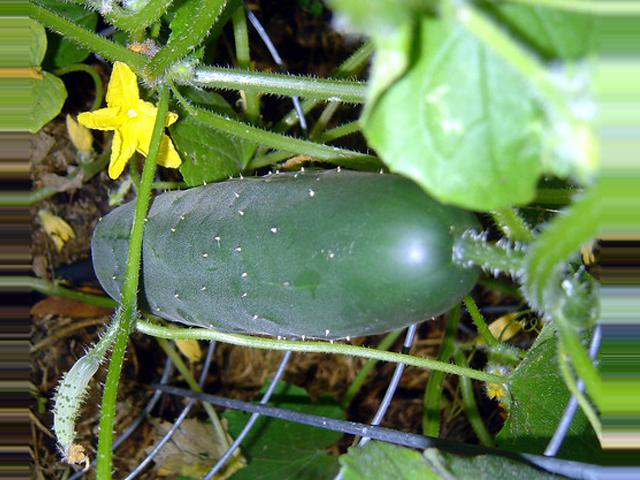cucumber: (92, 170, 482, 342)
